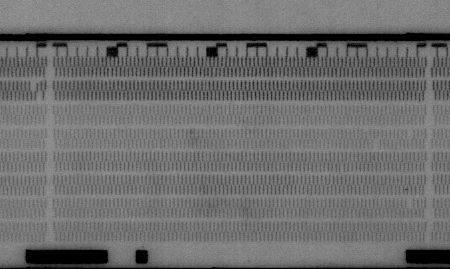Broken hole: (404, 197, 417, 209), (405, 127, 416, 141), (371, 139, 383, 151), (33, 89, 45, 100)
Oblique printing: (28, 80, 43, 94), (361, 127, 372, 143)
